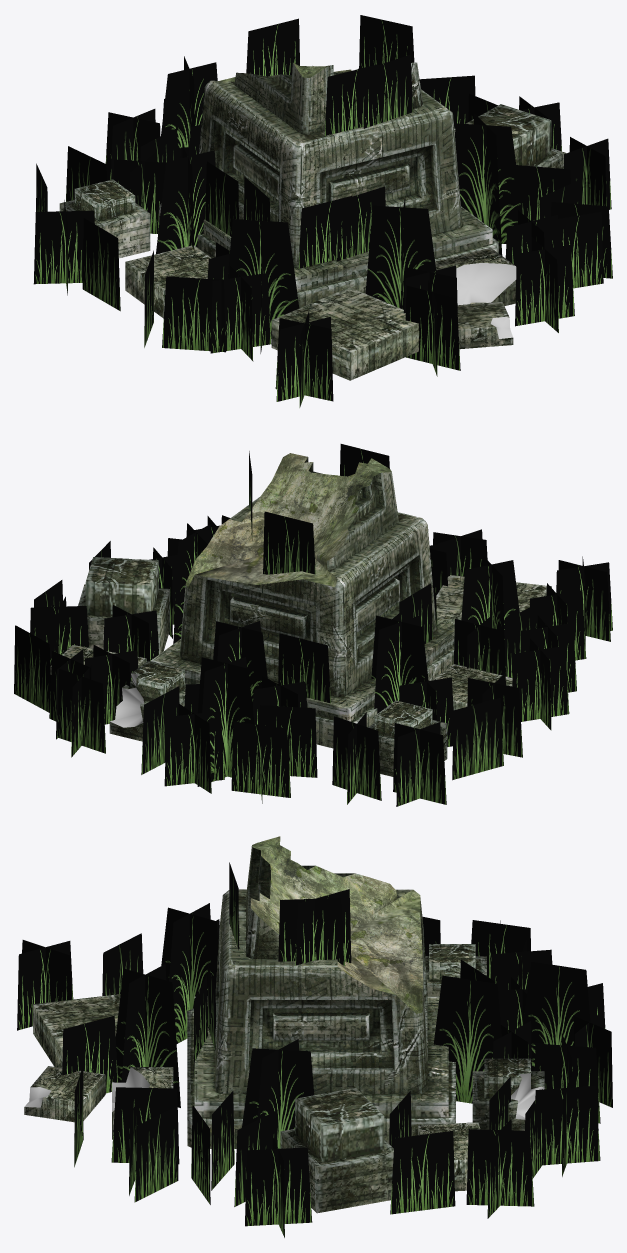
3 renders of one model, top to bottom at view 1: azimuth 30°, elevation 25°; view 2: azimuth 150°, elevation 25°; view 3: azimuth 270°, elevation 25°, orthographic. The views are drawn at different scales.
Parts seen in each view (by area): view 1: temp_grass00_grass002Shape.004, temp_remains1_remainsShape1.003, temp_remains4_remains4Shape.003, temp_remains2_remainsShape2.004, temp_remains3_remainsShape3.003; view 2: temp_grass00_grass002Shape.004, temp_remains1_remainsShape1.003, temp_remains4_remains4Shape.003, temp_remains3_remainsShape3.003, temp_remains2_remainsShape2.004; view 3: temp_grass00_grass002Shape.004, temp_remains1_remainsShape1.003, temp_remains4_remains4Shape.003, temp_remains2_remainsShape2.004, temp_remains3_remainsShape3.003.
Boxes of the visible parts, bbox=[...] form: temp_grass00_grass002Shape.004: bbox=[33, 15, 612, 407]; temp_remains1_remainsShape1.003: bbox=[159, 62, 498, 308]; temp_remains4_remains4Shape.003: bbox=[125, 104, 566, 349]; temp_remains2_remainsShape2.004: bbox=[271, 287, 418, 380]; temp_remains3_remainsShape3.003: bbox=[59, 179, 150, 258]; temp_grass00_grass002Shape.004: bbox=[14, 444, 612, 806]; temp_remains1_remainsShape1.003: bbox=[150, 453, 454, 748]; temp_remains4_remains4Shape.003: bbox=[50, 557, 512, 741]; temp_remains3_remainsShape3.003: bbox=[368, 700, 447, 776]; temp_remains2_remainsShape2.004: bbox=[436, 575, 551, 621]; temp_grass00_grass002Shape.004: bbox=[17, 862, 612, 1237]; temp_remains1_remainsShape1.003: bbox=[187, 836, 455, 1148]; temp_remains4_remains4Shape.003: bbox=[24, 1058, 544, 1213]; temp_remains2_remainsShape2.004: bbox=[33, 994, 120, 1067]; temp_remains3_remainsShape3.003: bbox=[425, 944, 486, 996].
Size of the model in its own units: 6.97 by 2.97 by 6.75.
